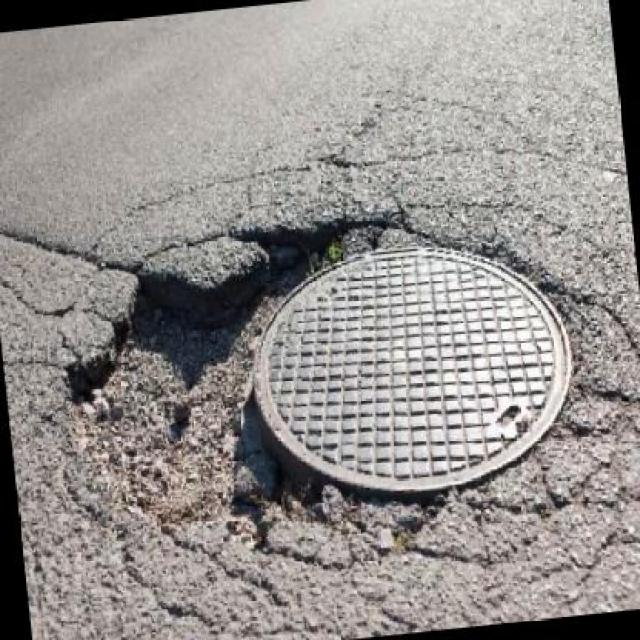pothole1: (41, 200, 394, 562)
